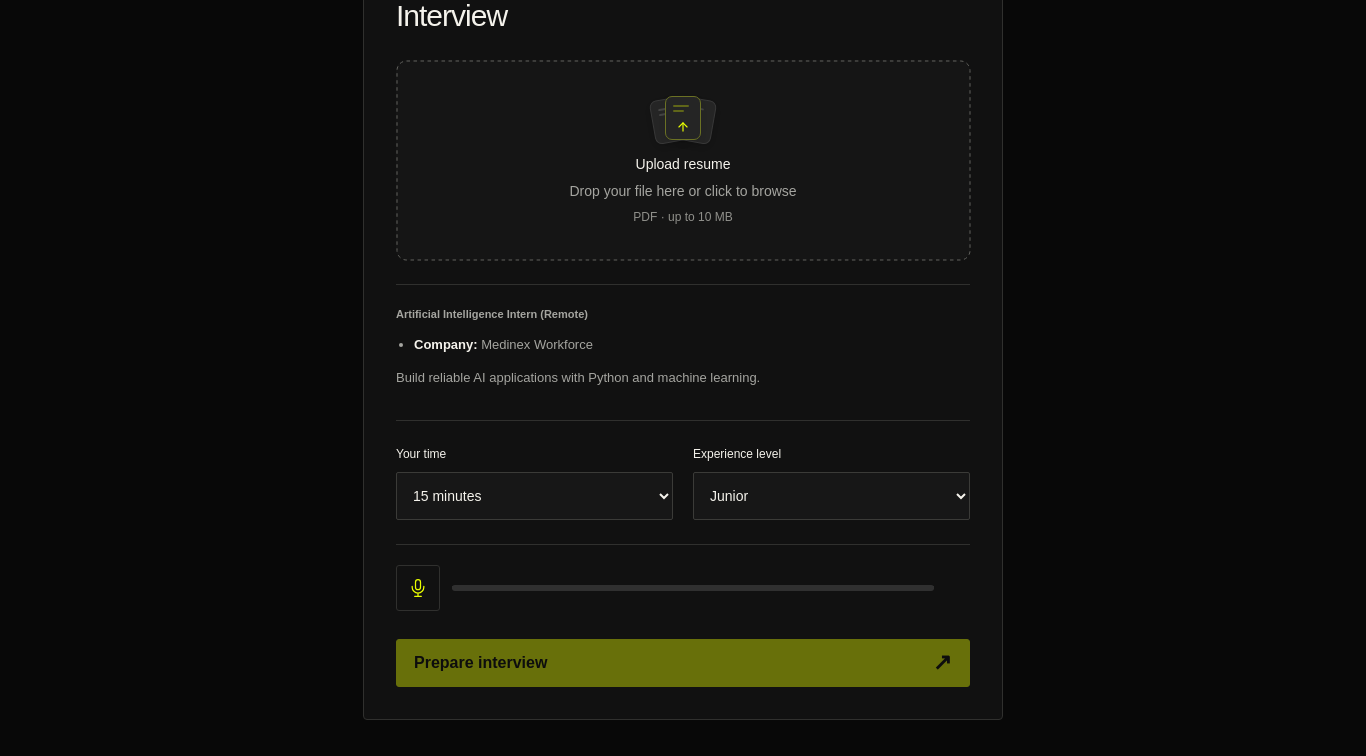
Test: explains microphone failure without starting an interview
The image size is (1366, 756).
(page scrolled)
Click the button named "Check microphone": [418, 588] box [396,565,440,611]
(page scrolled)
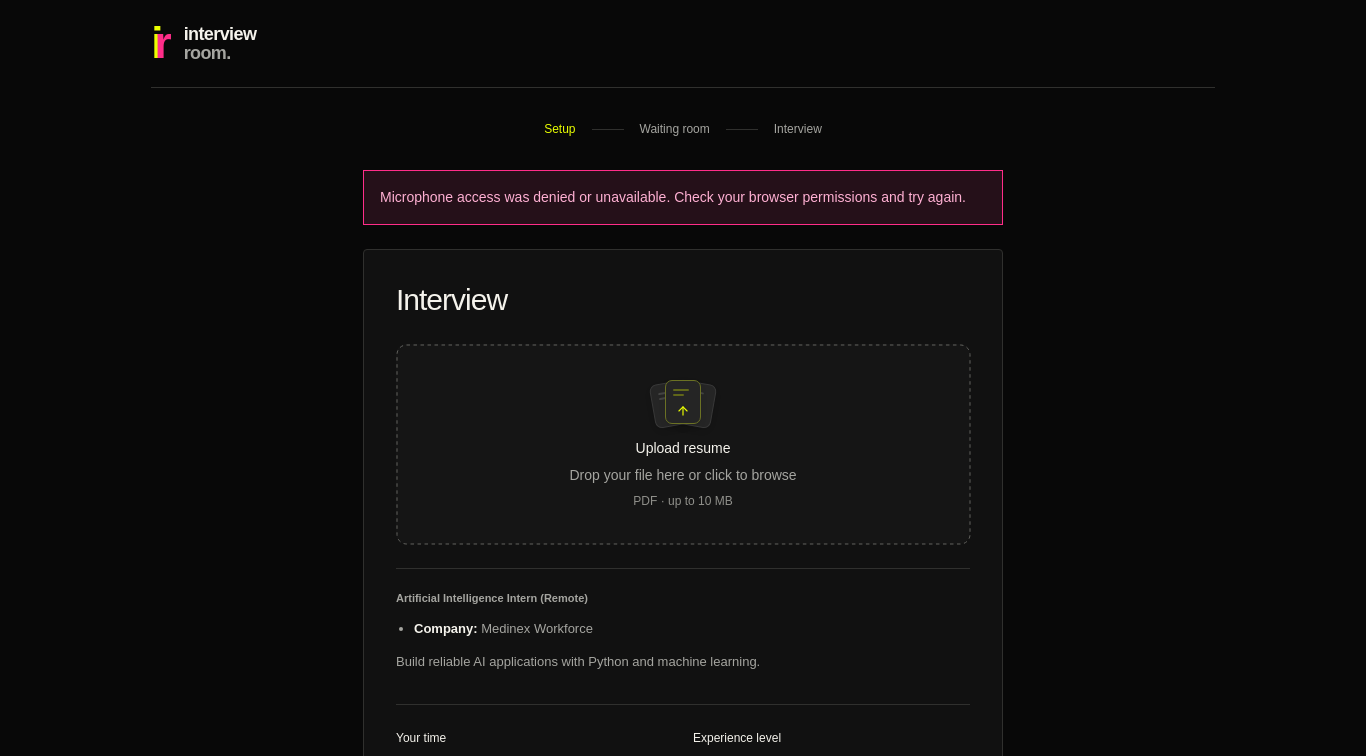
Now the message is shown, box [363,170,1003,225]
Now the message shows "Microphone access was denied", box [380,189,966,205]
